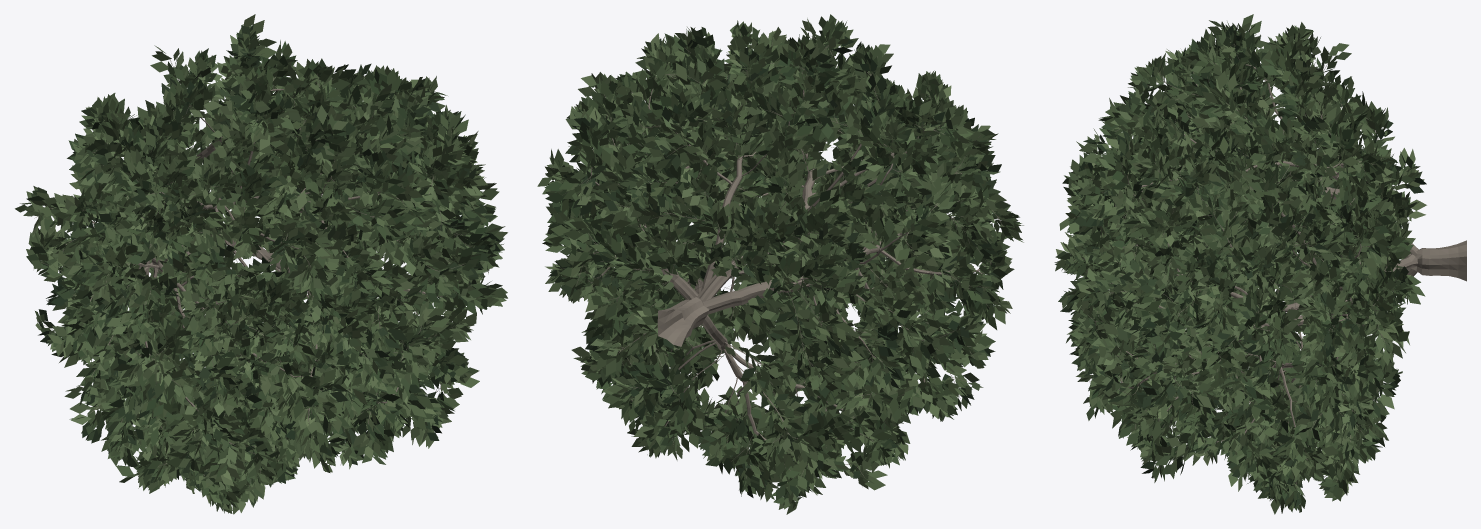
File: tree_near_06.obj
The picture shows the model from 3 angles, left to right: view 1: azimuth 30°, elevation 25°; view 2: azimuth 150°, elevation 25°; view 3: azimuth 270°, elevation 25°; orthographic projection. The views are drawn at different scales.
Parts seen in each view (by area): view 1: tree_near_06; view 2: tree_near_06; view 3: tree_near_06.
Part boxes in pixels (<box>): tree_near_06: <box>15,14,507,514</box>; tree_near_06: <box>537,14,1023,514</box>; tree_near_06: <box>1054,14,1466,514</box>.
Bounding box in the file's own units: 1.2 × 1.21 × 0.9923.
1 material, 1 textured.
